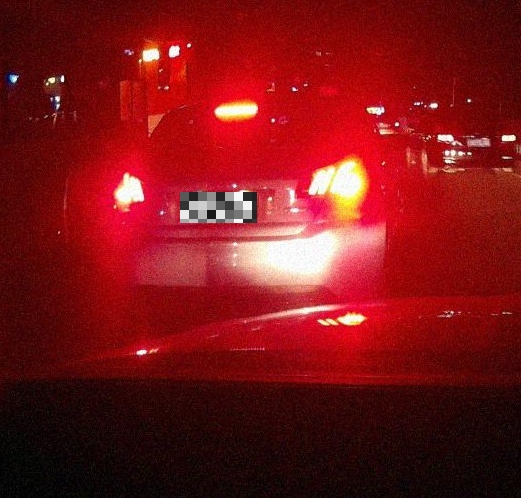L_light: (116, 174, 147, 213)
R_light: (307, 158, 366, 211)
T_light: (213, 100, 258, 120)
night-right: (115, 92, 388, 311)
plate_1: (180, 192, 257, 223)
